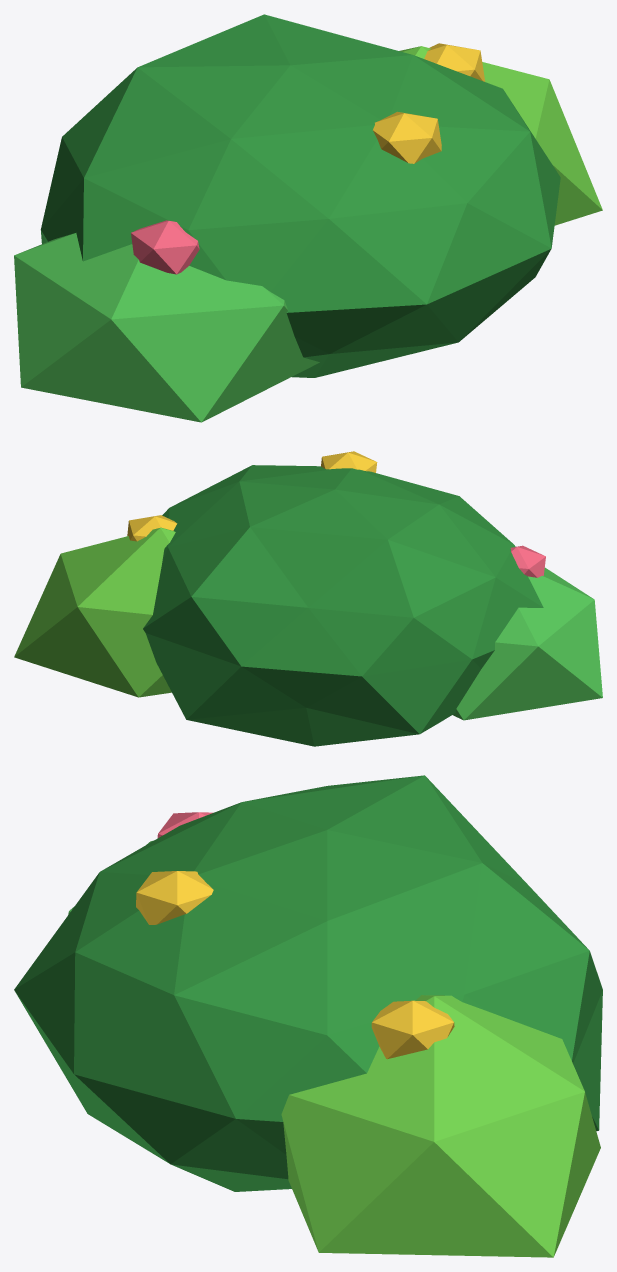
Rendered from EM_FoliageCluster.glb.
3 views of the same model, one above another, from view 1: azimuth 30°, elevation 25°; view 2: azimuth 150°, elevation 25°; view 3: azimuth 270°, elevation 25° (orthographic). The views are drawn at different scales.
Visible parts, largest first — view 1: EM_FoliageCluster__LeafOak, EM_FoliageCluster__LeafOakHi, EM_FoliageCluster__LeafBirch, EM_FoliageCluster__FlowerGold, EM_FoliageCluster__FlowerCoral; view 2: EM_FoliageCluster__LeafOak, EM_FoliageCluster__LeafBirch, EM_FoliageCluster__LeafOakHi, EM_FoliageCluster__FlowerGold, EM_FoliageCluster__FlowerCoral; view 3: EM_FoliageCluster__LeafOak, EM_FoliageCluster__LeafBirch, EM_FoliageCluster__FlowerGold.
Part boxes in pixels (x1,y1,x2,y2): EM_FoliageCluster__LeafOak: (40, 14, 560, 377); EM_FoliageCluster__LeafOakHi: (14, 233, 319, 422); EM_FoliageCluster__LeafBirch: (399, 46, 602, 225); EM_FoliageCluster__FlowerGold: (373, 43, 485, 163); EM_FoliageCluster__FlowerCoral: (131, 220, 199, 274); EM_FoliageCluster__LeafOak: (143, 465, 543, 746); EM_FoliageCluster__LeafBirch: (14, 527, 175, 697); EM_FoliageCluster__LeafOakHi: (452, 567, 602, 720); EM_FoliageCluster__FlowerGold: (127, 451, 377, 541); EM_FoliageCluster__FlowerCoral: (510, 545, 545, 577); EM_FoliageCluster__LeafOak: (14, 775, 602, 1191); EM_FoliageCluster__LeafBirch: (281, 995, 600, 1257); EM_FoliageCluster__FlowerGold: (136, 871, 454, 1059).
Bounding box in the file's own units: 7.68 × 3.34 × 5.51.
